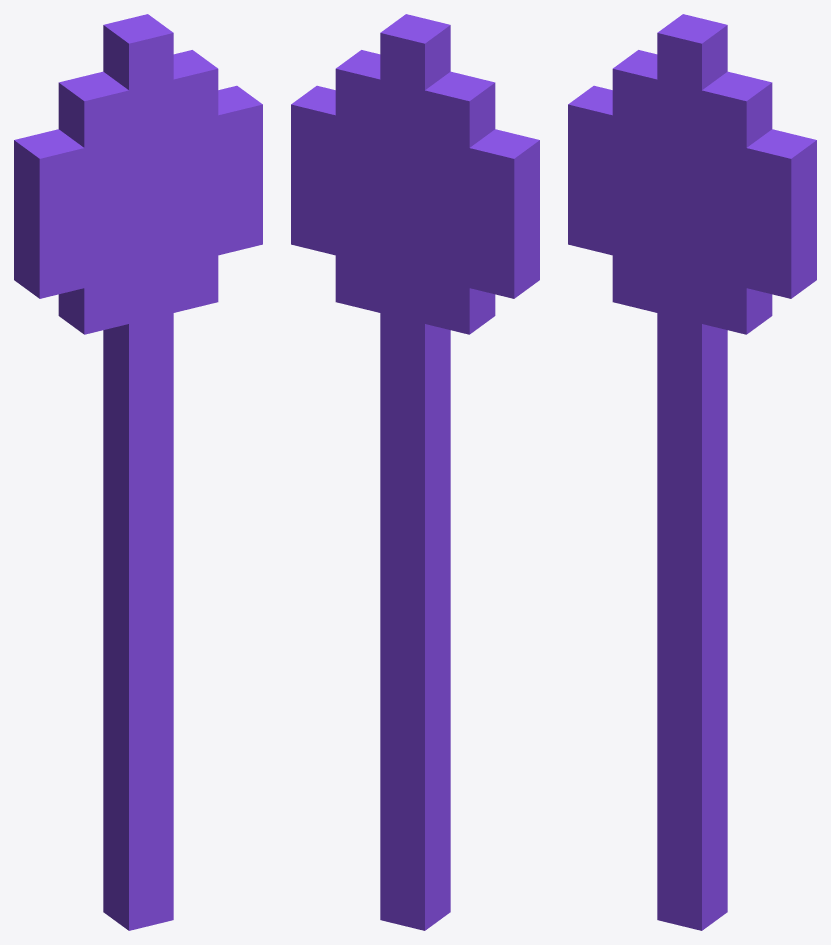
3 renders of one model, left to right at view 1: azimuth 30°, elevation 25°; view 2: azimuth 150°, elevation 25°; view 3: azimuth 330°, elevation 25°, orthographic.
Parts seen in each view (by area): view 1: 65; view 2: 65; view 3: 65.
Part boxes in pixels (<box>): 65: <box>14,14,262,930</box>; 65: <box>291,14,539,930</box>; 65: <box>568,14,816,930</box>.
Bounding box in the file's own units: 0.5 × 1.9 × 0.1.
2 materials, 2 textured.
